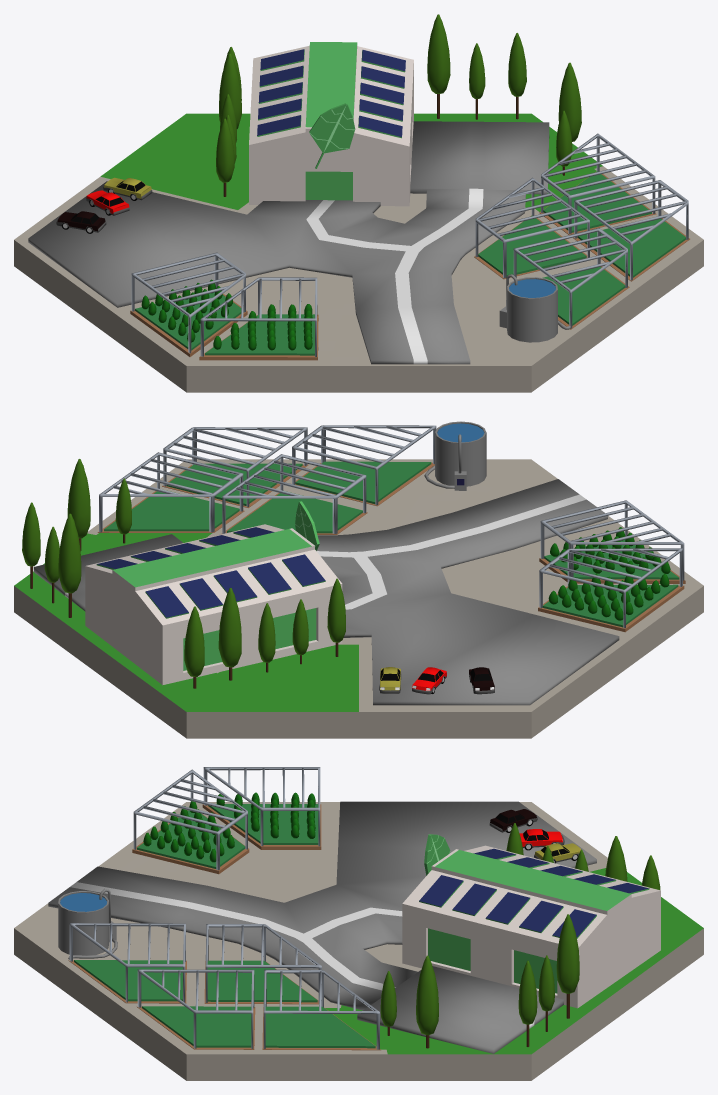
File: Plant_Processing_No_Glass.fbx
3 renders of one model, top to bottom at view 1: azimuth 30°, elevation 25°; view 2: azimuth 150°, elevation 25°; view 3: azimuth 270°, elevation 25°, orthographic.
Visible parts, largest first — view 1: Cube; view 2: Cube; view 3: Cube.
Boxes of the visible parts, x1,y1,x2,y2 form: Cube: [14, 14, 703, 392]; Cube: [14, 421, 703, 738]; Cube: [14, 767, 703, 1080].
Bounding box in the file's own units: 116 × 100 × 24.28.
